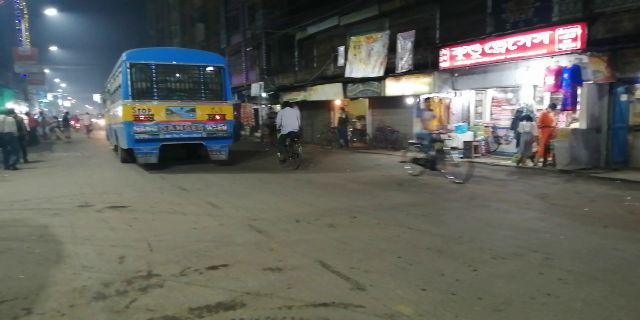Bus: (104, 47, 235, 164)
Cycle: (395, 98, 476, 187), (267, 100, 309, 171)
